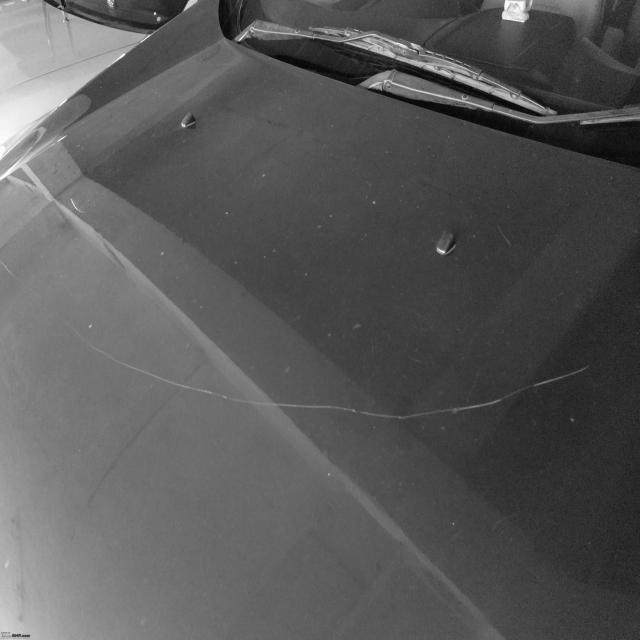scratch: (0, 259, 595, 421), (496, 223, 515, 248), (69, 197, 85, 215)
